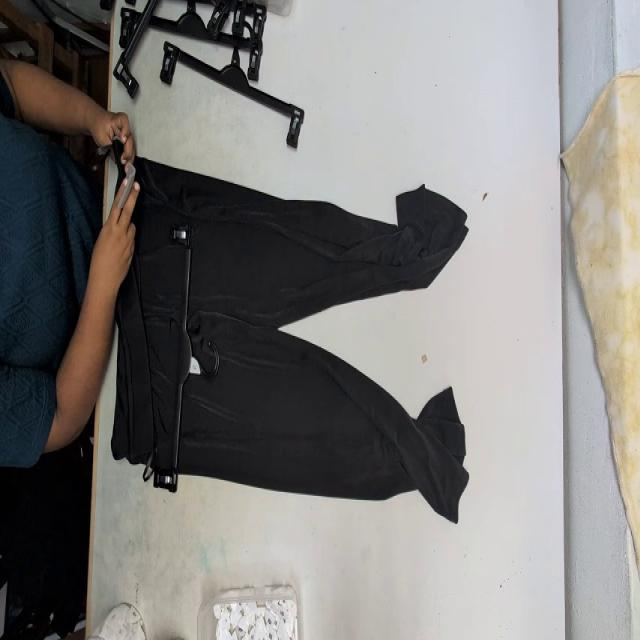new-garment: (112, 156, 468, 521)
